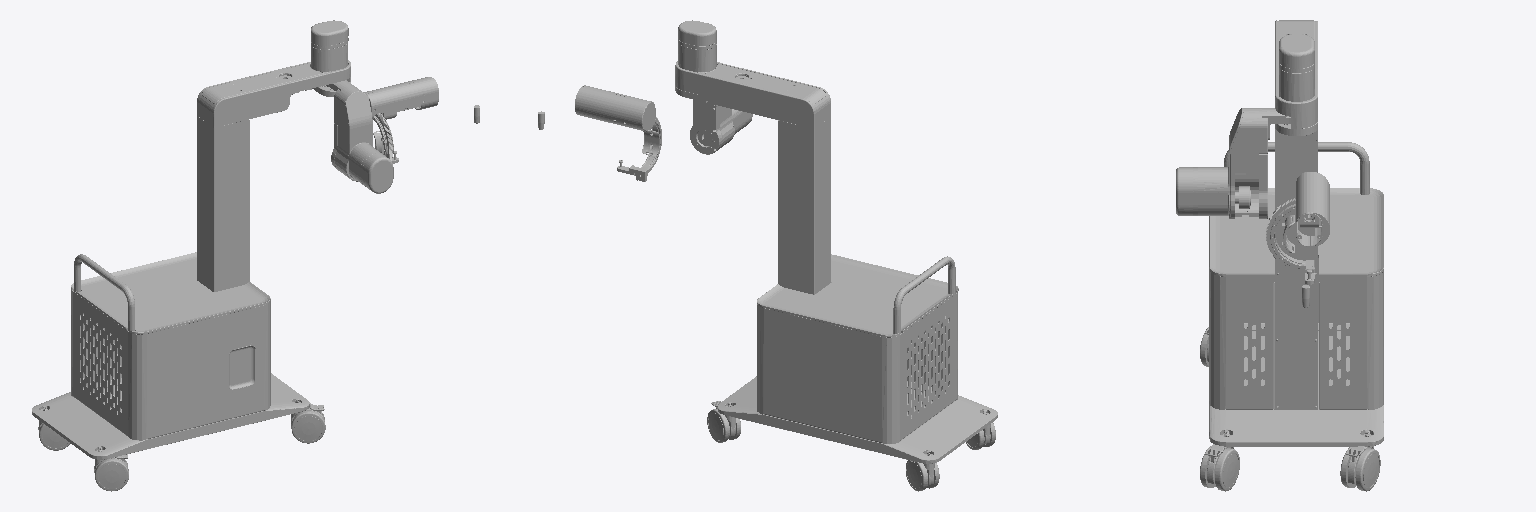
The robot description file, URDF, robot "powerarm_urdf":
<?xml version="1.0"?> <!--encoding="utf-8"-->
<!-- This URDF was automatically created by SolidWorks to URDF Exporter! Originally created by [author] ([email redacted]) 
     Commit Version: 1.5.1-0-g916b5db  Build Version: 1.5.7152.31018
     For more information, please see http://wiki.ros.org/sw_urdf_exporter -->
<robot
  name="powerarm_urdf">
  <link
    name="base_link">
    <inertial>
      <origin
        xyz="0.08978 0.00062379 0.45981"
        rpy="0 0 0" />
      <mass
        value="112.73" />
      <inertia
        ixx="5.4398"
        ixy="-0.024922"
        ixz="-0.040023"
        iyy="7.5698"
        iyz="0.00089869"
        izz="6.4436" />
    </inertial>
    <visual>
      <origin
        xyz="0 0 0"
        rpy="0 0 0" />
      <geometry>
        <mesh
          filename="package://powerarm_urdf/meshes/base_link.STL" />
      </geometry>
      <material
        name="">
        <color
          rgba="0.75294 0.75294 0.75294 1" />
      </material>
    </visual>
    <collision>
      <origin
        xyz="0 0 0"
        rpy="0 0 0" />
      <geometry>
        <mesh
          filename="package://powerarm_urdf/meshes/base_link.STL" />
      </geometry>
    </collision>
  </link>
  <link
    name="shoulder_link_1">
    <inertial>
      <origin
        xyz="-0.0035312 -0.13515 -0.1295"
        rpy="0 0 0" />
      <mass
        value="7.4897" />
      <inertia
        ixx="0.044348"
        ixy="0.00014185"
        ixz="-0.0023816"
        iyy="0.042453"
        iyz="-0.0062172"
        izz="0.01437" />
    </inertial>
    <visual>
      <origin
        xyz="0 0 0"
        rpy="0 0 0" />
      <geometry>
        <mesh
          filename="package://powerarm_urdf/meshes/shoulder_link_1.STL" />
      </geometry>
      <material
        name="">
        <color
          rgba="0.75294 0.75294 0.75294 1" />
      </material>
    </visual>
    <collision>
      <origin
        xyz="0 0 0"
        rpy="0 0 0" />
      <geometry>
        <mesh
          filename="package://powerarm_urdf/meshes/shoulder_link_1.STL" />
      </geometry>
    </collision>
  </link>
  <joint
    name="shoulder_joint_1"
    type="revolute">
    <origin
      xyz="0.698849999997198 0 1.31618749999962"
      rpy="0 0 0" />
    <parent
      link="base_link" />
    <child
      link="shoulder_link_1" />
    <axis
      xyz="0 0 1" />
    <limit
      lower="-1.5708"
      upper="0.785398"
      effort="0"
      velocity="1.2" />
  </joint>
  <link
    name="shoulder_link_2">
    <inertial>
      <origin
        xyz="0.20026 6.1667E-05 0.010577"
        rpy="0 0 0" />
      <mass
        value="2.9675" />
      <inertia
        ixx="0.0050711"
        ixy="-0.00032811"
        ixz="4.6868E-05"
        iyy="0.0067807"
        iyz="-4.7618E-05"
        izz="0.0074734" />
    </inertial>
    <visual>
      <origin
        xyz="0 0 0"
        rpy="0 0 0" />
      <geometry>
        <mesh
          filename="package://powerarm_urdf/meshes/shoulder_link_2.STL" />
      </geometry>
      <material
        name="">
        <color
          rgba="0.64706 0.61961 0.58824 1" />
      </material>
    </visual>
    <collision>
      <origin
        xyz="0 0 0"
        rpy="0 0 0" />
      <geometry>
        <mesh
          filename="package://powerarm_urdf/meshes/shoulder_link_2.STL" />
      </geometry>
    </collision>
  </link>
  <joint
    name="shoulder_joint_2"
    type="revolute">
    <origin
      xyz="0 -0.14543 -0.2634"
      rpy="-1.5708 0 0" />
    <parent
      link="shoulder_link_1" />
    <child
      link="shoulder_link_2" />
    <axis
      xyz="0 0 1" />
    <limit
      lower="-0.5236"
      upper="1.5708"
      effort="0"
      velocity="1.2" />
  </joint>
  <link
    name="shoulder_link_3">
    <inertial>
      <origin
        xyz="0.0202099636303003 -0.0599945572053269 0.0704737638953157"
        rpy="0 0 0" />
      <mass
        value="2.82114385353419" />
      <inertia
        ixx="0.0132587231747916"
        ixy="-8.46028875588094E-05"
        ixz="-8.67752367351025E-05"
        iyy="0.00609813579413896"
        iyz="0.000218903832691613"
        izz="0.0114660345254401" />
    </inertial>
    <visual>
      <origin
        xyz="0 0 0"
        rpy="0 0 0" />
      <geometry>
        <mesh
          filename="package://powerarm_urdf/meshes/shoulder_link_3.STL" />
      </geometry>
      <material
        name="">
        <color
          rgba="0.752941176470588 0.752941176470588 0.752941176470588 1" />
      </material>
    </visual>
    <collision>
      <origin
        xyz="0 0 0"
        rpy="0 0 0" />
      <geometry>
        <mesh
          filename="package://powerarm_urdf/meshes/shoulder_link_3.STL" />
      </geometry>
    </collision>
  </link>
  <joint
    name="shoulder_joint_3"
    type="revolute">
    <origin
      xyz="0.19163 0.02842 0.17343"
      rpy="0 1.5708 0" />
    <parent
      link="shoulder_link_2" />
    <child
      link="shoulder_link_3" />
    <axis
      xyz="0 0 1" />
    <limit
      lower="-1.5708"
      upper="1.5708"
      effort="0"
      velocity="1.2" />
  </joint>
  <link
    name="elbow_link">
    <inertial>
      <origin
        xyz="0.0833479518409536 0.159223242917024 -0.00723299079194639"
        rpy="0 0 0" />
      <mass
        value="1.57382211837424" />
      <inertia
        ixx="0.00717308542457007"
        ixy="0.000906020103415368"
        ixz="-0.000192894255123084"
        iyy="0.00334880720547541"
        iyz="0.0003540693463422"
        izz="0.00622703611680052" />
    </inertial>
    <visual>
      <origin
        xyz="0 0 0"
        rpy="0 0 0" />
      <geometry>
        <mesh
          filename="package://powerarm_urdf/meshes/elbow_link.STL" />
      </geometry>
      <material
        name="">
        <color
          rgba="0.752941176470588 0.752941176470588 0.752941176470588 1" />
      </material>
    </visual>
    <collision>
      <origin
        xyz="0 0 0"
        rpy="0 0 0" />
      <geometry>
        <mesh
          filename="package://powerarm_urdf/meshes/elbow_link.STL" />
      </geometry>
    </collision>
  </link>
  <joint
    name="elbow_joint"
    type="revolute">
    <origin
      xyz="-0.0096516 0 0.09"
      rpy="1.5708 0 0" />
    <parent
      link="shoulder_link_3" />
    <child
      link="elbow_link" />
    <axis
      xyz="0 0 1" />
    <limit
      lower="0"
      upper="1.5708"
      effort="0"
      velocity="1.2" />
  </joint>
  <link
    name="ee_link">
    <inertial>
      <origin
        xyz="-2.6459E-08 1.0933E-07 0.0035936"
        rpy="0 0 0" />
      <mass
        value="0.027068" />
      <inertia
        ixx="9.6046E-06"
        ixy="5.0468E-11"
        ixz="-1.2285E-11"
        iyy="9.6044E-06"
        iyz="5.3157E-11"
        izz="2.0893E-06" />
    </inertial>
    <visual>
      <origin
        xyz="0 0 0"
        rpy="0 0 0" />
      <geometry>
        <mesh
          filename="package://powerarm_urdf/meshes/ee_link.STL" />
      </geometry>
      <material
        name="">
        <color
          rgba="0.75294 0.75294 0.75294 1" />
      </material>
    </visual>
    <collision>
      <origin
        xyz="0 0 0"
        rpy="0 0 0" />
      <geometry>
        <mesh
          filename="package://powerarm_urdf/meshes/ee_link.STL" />
      </geometry>
    </collision>
  </link>
  <joint
    name="ee_joint"
    type="fixed">
    <origin
      xyz="0.0105000002665487 0.344 0.000499999999998835"
      rpy="0 0 0" />
    <parent
      link="elbow_link" />
    <child
      link="ee_link" />
    <axis
      xyz="0 0 0" />
  </joint>

  <!-- Used for fixing robot to Gazebo 'base_link' -->
  <link name="world"/>

    <joint name="fixed" type="fixed">
      <parent link="world"/>
      <child link="base_link"/>
    </joint>

  <gazebo reference="base_link">
    <material>Gazebo/White</material>
    <gravity>true</gravity>
    <selfColide>false</selfColide>
  </gazebo>
  <gazebo reference="shoulder_link_1">
    <material>Gazebo/White</material>
    <gravity>true</gravity>
    <selfColide>false</selfColide>
  </gazebo>
  <gazebo reference="shoulder_link_2">
    <material>Gazebo/White</material>
    <gravity>true</gravity>
    <selfColide>false</selfColide>
  </gazebo>
  <gazebo reference="shoulder_link_3">
    <material>Gazebo/White</material>
    <gravity>true</gravity>
    <selfColide>false</selfColide>
  </gazebo>
  <gazebo reference="elbow_link">
    <material>Gazebo/White</material>
    <gravity>true</gravity>
    <selfColide>false</selfColide>
  </gazebo>
  <gazebo reference="ee_link">
    <material>Gazebo/White</material>
    <gravity>true</gravity>
    <selfColide>false</selfColide>
  </gazebo>  

  <!--comment if need-->
  <ros2_control name="GazeboSystem" type="system">
    <hardware>
        <plugin>gazebo_ros2_control/GazeboSystem</plugin>
    </hardware>
    <joint name="shoulder_joint_1">
        <command_interface name="position"/>
        <state_interface name="position">
          <param name="initial_value">0.0</param>
        </state_interface>
        <state_interface name="velocity"/>
    </joint>
    <joint name="shoulder_joint_2">
        <command_interface name="position"/>

        <state_interface name="position">
          <param name="initial_value">0.0</param>
        </state_interface>
        <state_interface name="velocity"/>
    </joint>
    <joint name="shoulder_joint_3">
        <command_interface name="position"/>

        <state_interface name="position">
          <param name="initial_value">0.0</param>
        </state_interface>
        <state_interface name="velocity"/>
    </joint>
    <joint name="elbow_joint">
        <command_interface name="position"/>

        <state_interface name="position">
          <param name="initial_value">0.0</param>
        </state_interface>
        <state_interface name="velocity"/>
    </joint>
  </ros2_control>

  <gazebo>
    <plugin name="gazebo_ros2_control" filename="libgazebo_ros2_control.so">
      <parameters>[local-path]/powerarm_ws/src/powerarm_moveit_config/config/ros2_controllers.yaml</parameters>
      <robot_param_node>robot_state_publisher</robot_param_node>
    </plugin>
  </gazebo>
</robot>

--- Render facts (derived) ---
The picture shows the robot from 3 angles, left to right: view 1: azimuth 30°, elevation 25°; view 2: azimuth 150°, elevation 25°; view 3: azimuth 270°, elevation 25°; orthographic projection.
Model powerarm_urdf with 7 links and 6 joints (4 revolute, 2 fixed), rooted at world, posed all joints at 0.
Visible links, largest first — view 1: base_link, shoulder_link_1, shoulder_link_3; view 2: base_link, shoulder_link_3, shoulder_link_1; view 3: base_link, shoulder_link_1, shoulder_link_3.
Link boxes in pixels (x1,y1,x2,y2): base_link: (32,20,350,491); shoulder_link_1: (326,80,393,193); shoulder_link_3: (364,77,438,163); base_link: (675,20,997,491); shoulder_link_3: (575,85,661,181); shoulder_link_1: (690,62,752,154); base_link: (1200,20,1383,491); shoulder_link_1: (1176,108,1290,218); shoulder_link_3: (1266,172,1329,284).
Bounding box of the posed robot: 1.8 × 0.6115 × 1.54 m (x, y, z).
Meshes: 6 distinct files referenced, 4 mesh visuals loaded (4 binary STL); not drawn: 2 (file found but could not be loaded).
